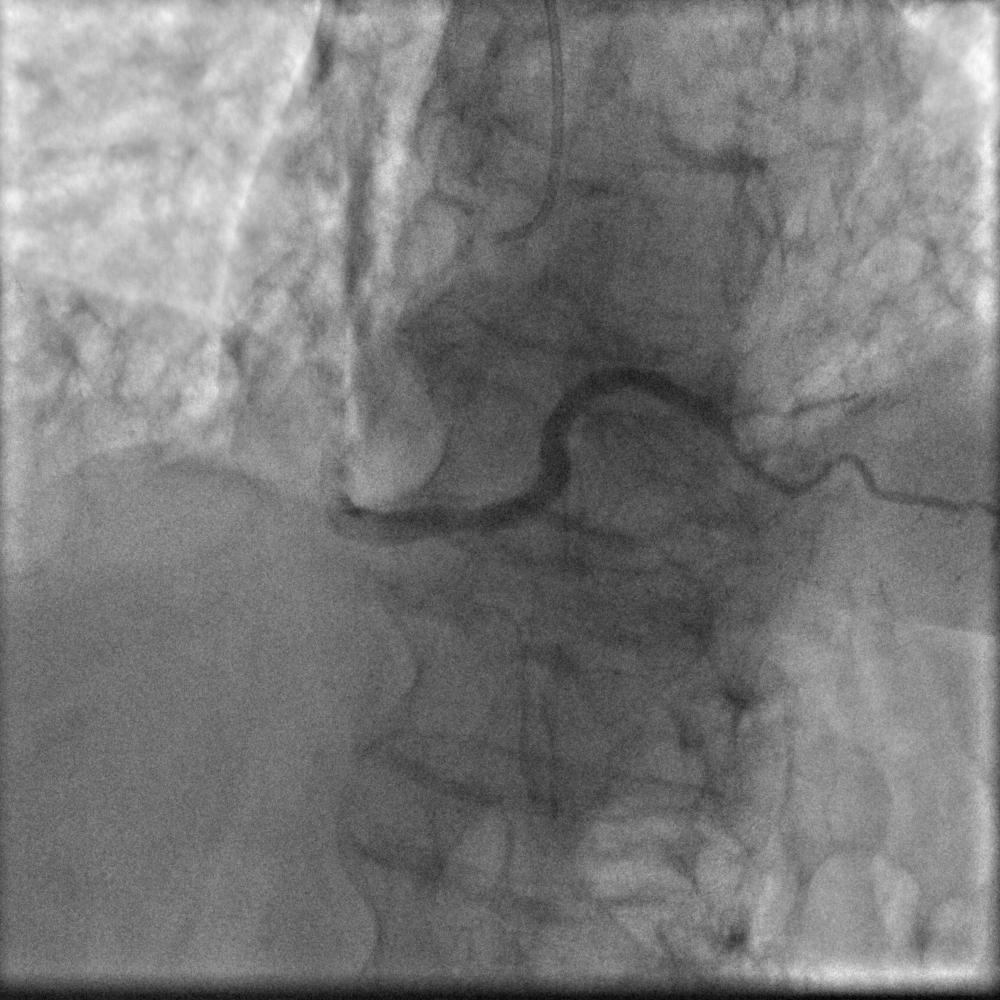Stenosis: (712, 395, 754, 464)
